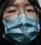with_mask: (2, 1, 41, 45)
